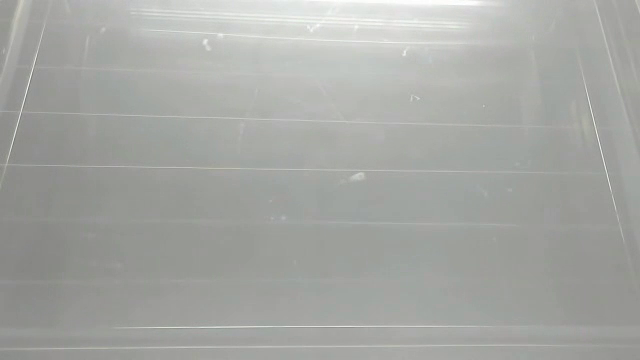alpha: (338, 169, 367, 191)
